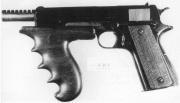gun: (2, 2, 177, 102)
